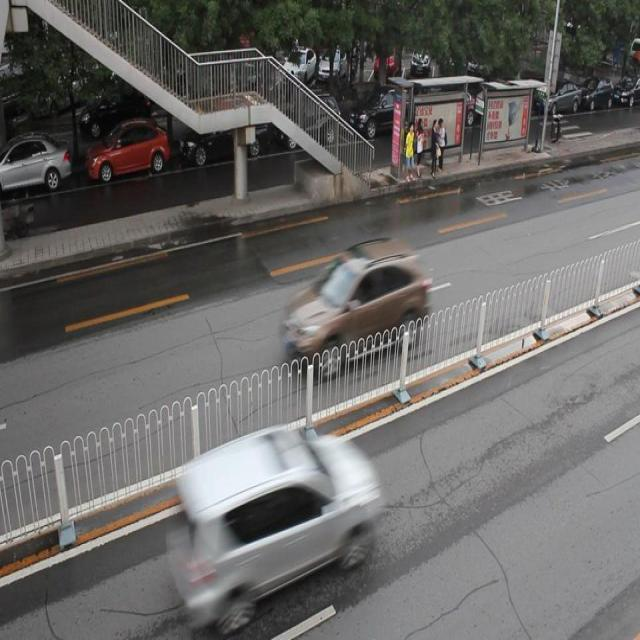car: (170, 429, 379, 615), (282, 236, 428, 376), (84, 118, 166, 184), (179, 107, 266, 162), (1, 137, 70, 196), (347, 83, 415, 141), (278, 92, 342, 152)
